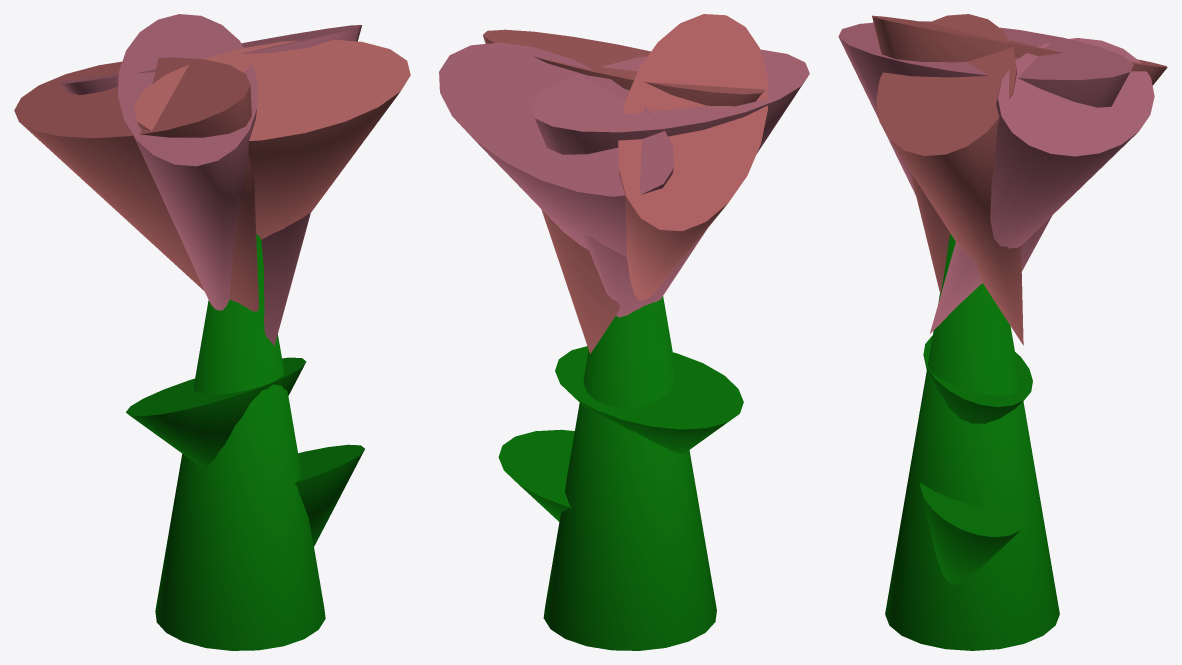
The model's file is Rose.fbx.
3 views of the same model, side by side, from view 1: azimuth 30°, elevation 25°; view 2: azimuth 150°, elevation 25°; view 3: azimuth 270°, elevation 25° (orthographic).
Visible parts, largest first — view 1: Stem, Petal2, Rose_2, Petal3, Thorn_1, Petal4, Thorn_2; view 2: Stem, Petal2, Petal4, Petal3, Rose_2, Thorn_1, Thorn_2; view 3: Stem, Rose_2, Petal4, Petal3, Petal2, Thorn_2, Thorn_1.
Boxes of the visible parts, x1,y1,x2,y2 form: Stem: [155, 234, 325, 650]; Petal2: [14, 57, 258, 311]; Rose_2: [133, 39, 410, 239]; Petal3: [118, 14, 257, 310]; Thorn_1: [126, 357, 306, 466]; Petal4: [60, 25, 361, 345]; Thorn_2: [295, 444, 364, 546]; Stem: [543, 296, 716, 650]; Petal2: [618, 14, 767, 300]; Petal4: [439, 42, 673, 257]; Petal3: [530, 49, 809, 317]; Rose_2: [483, 29, 764, 353]; Thorn_1: [555, 346, 743, 454]; Thorn_2: [498, 429, 574, 521]; Stem: [885, 233, 1059, 650]; Rose_2: [876, 14, 1023, 345]; Petal4: [930, 38, 1154, 333]; Petal3: [838, 21, 1133, 271]; Petal2: [872, 15, 1167, 293]; Thorn_2: [920, 482, 1029, 584]; Thorn_1: [923, 335, 1032, 423].
Size of the model in its own units: 0.8741 by 1.55 by 0.8032.
